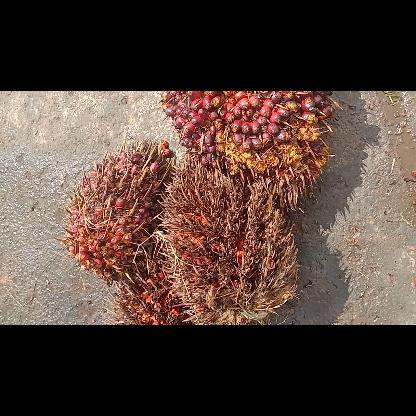TBS masak: (160, 91, 336, 211), (57, 138, 174, 284)
Terlalu masak: (158, 152, 300, 324), (104, 254, 192, 324)
